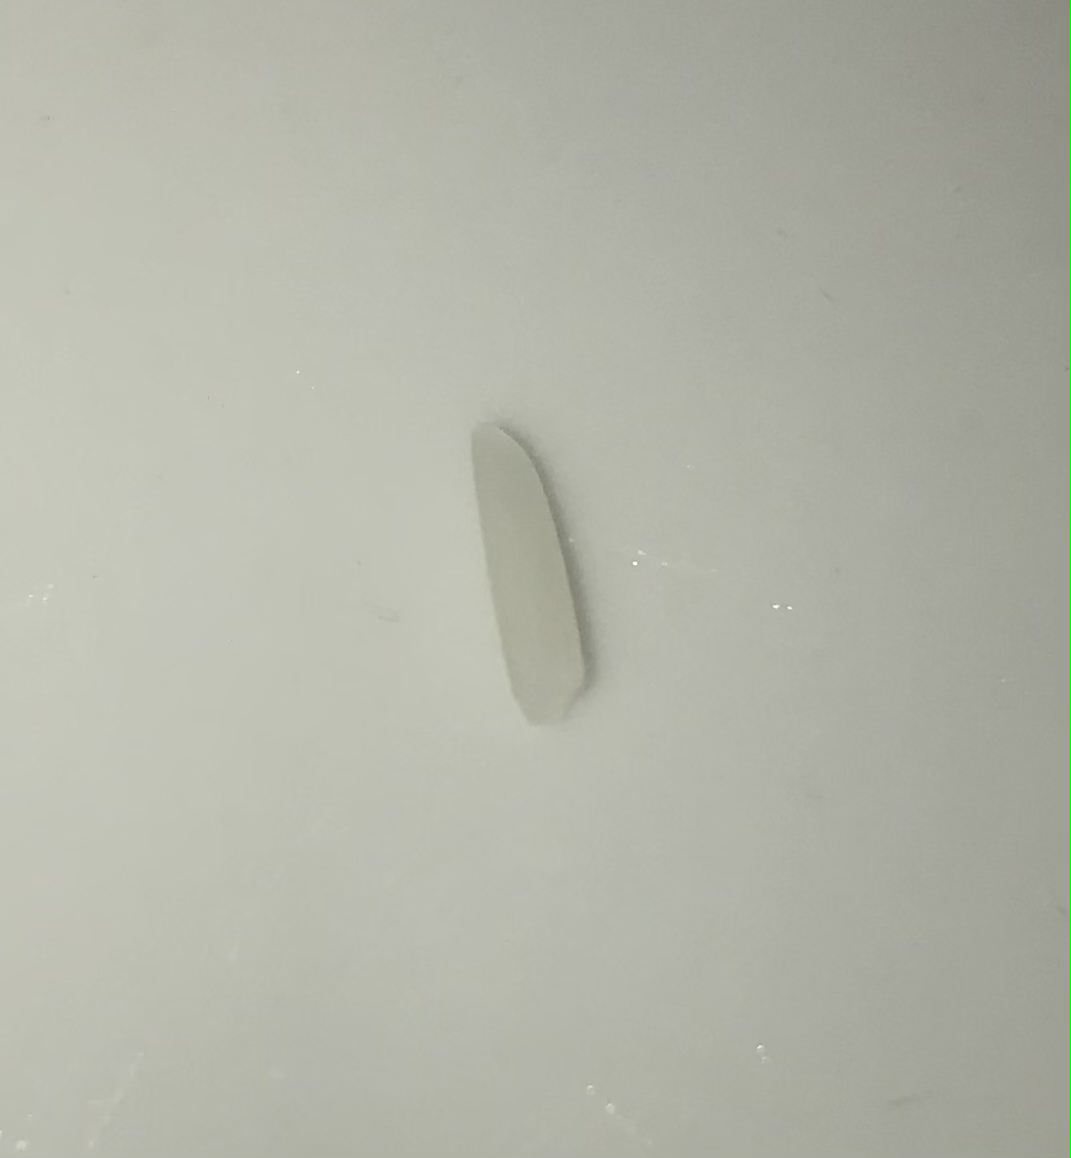Gao Thom Go Cong: (455, 397, 606, 751)
